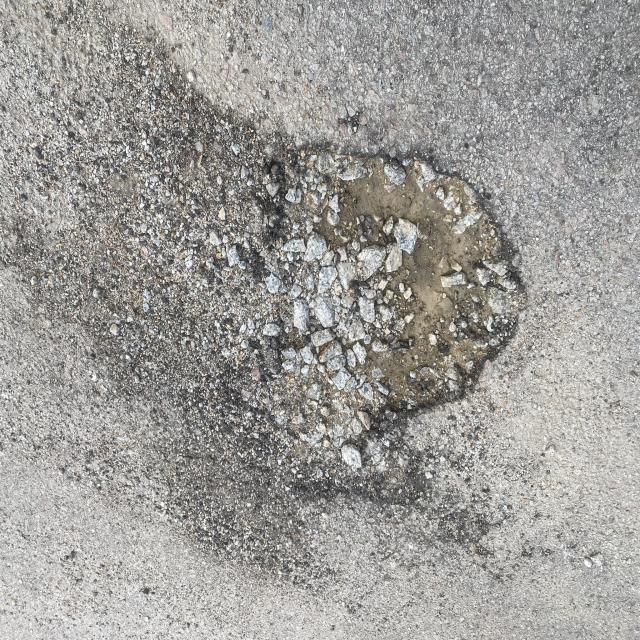Pothole: (157, 62, 558, 564)
